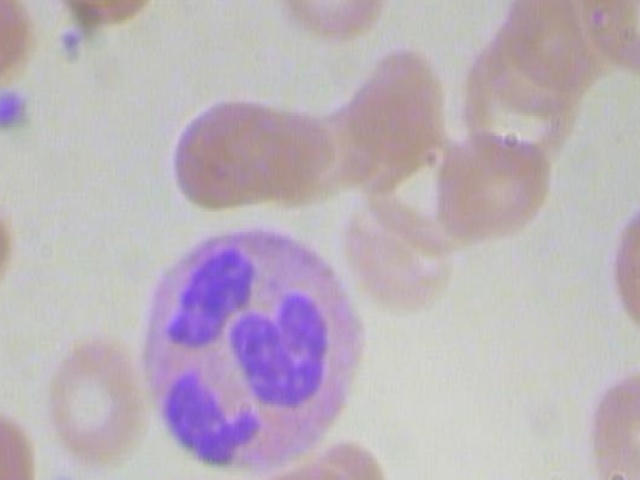Platelets: (0, 88, 33, 134), (42, 471, 85, 480)
RBC: (35, 329, 160, 469), (430, 121, 559, 251), (167, 92, 296, 222), (343, 184, 462, 311), (581, 363, 640, 480), (602, 196, 640, 363), (272, 0, 399, 47), (574, 0, 640, 85)
WBC: (132, 212, 373, 480)
